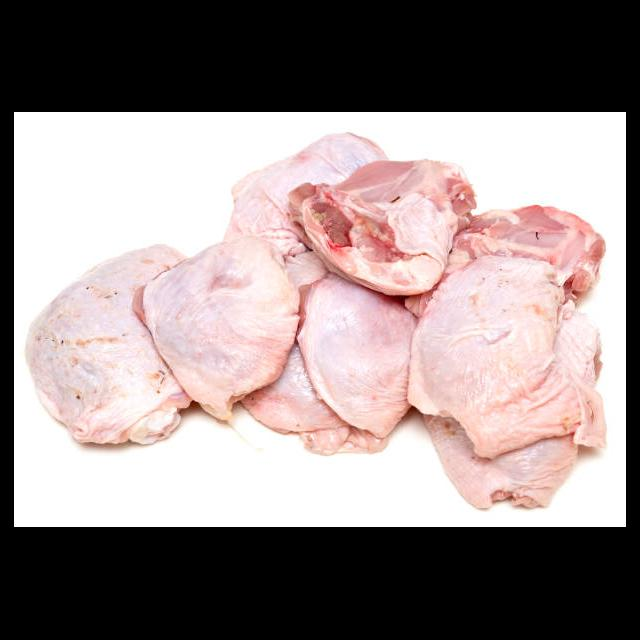chicken: (408, 253, 615, 462), (421, 312, 603, 514), (19, 242, 196, 448), (228, 278, 420, 460), (131, 236, 302, 424), (220, 132, 394, 286), (286, 157, 476, 296), (402, 205, 605, 322)
